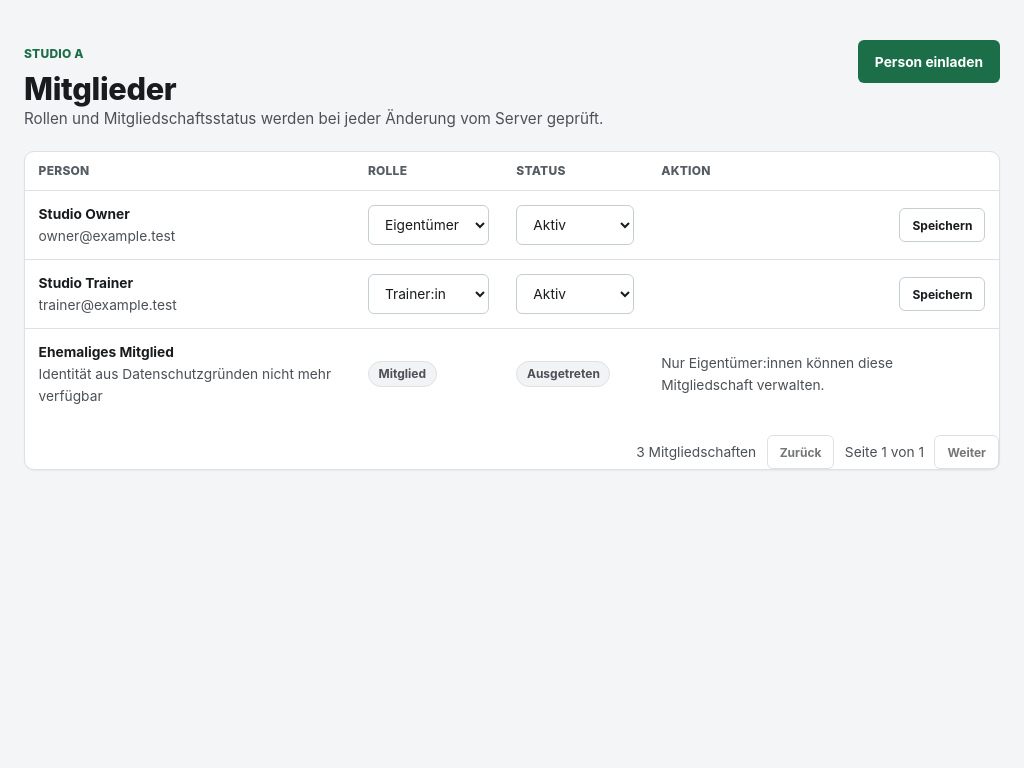
StudioMembersView role controls › asks for confirmation before applying a role change and shows before/after roles
The width and height of the screenshot is (1024, 768).
Select "Mitglied" in the 3rd dropdown at (429, 294), box left=368, top=274, right=489, bottom=314
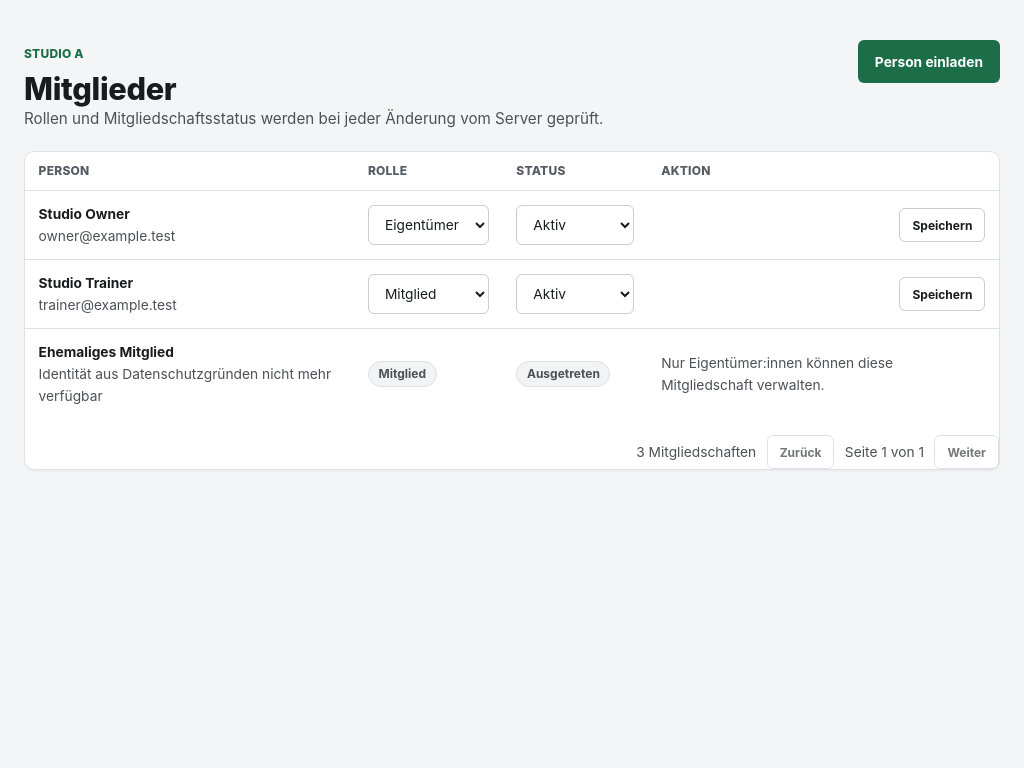
Click the button "Speichern" in the row of "Studio Trainer" at (942, 294), box left=900, top=277, right=986, bottom=311
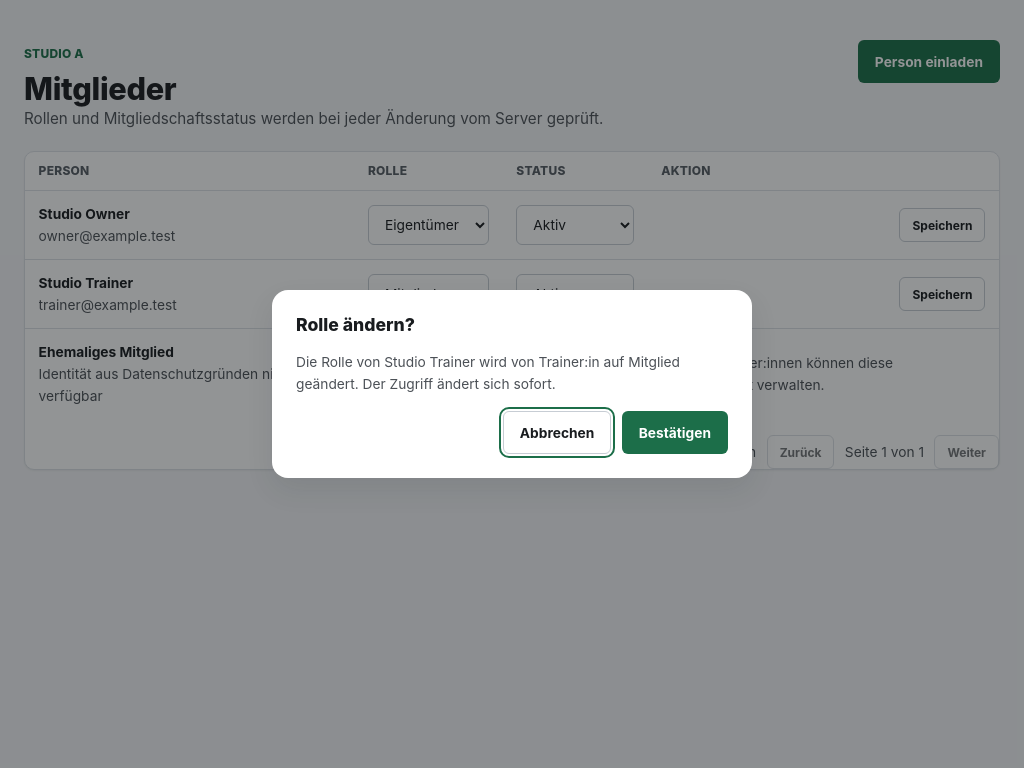
Check: the dialog is shown, box left=272, top=290, right=752, bottom=478
Check: the dialog shows "Rolle ändern?", box left=296, top=314, right=415, bottom=335
Check: the dialog shows "Trainer:in", box left=296, top=354, right=680, bottom=392
